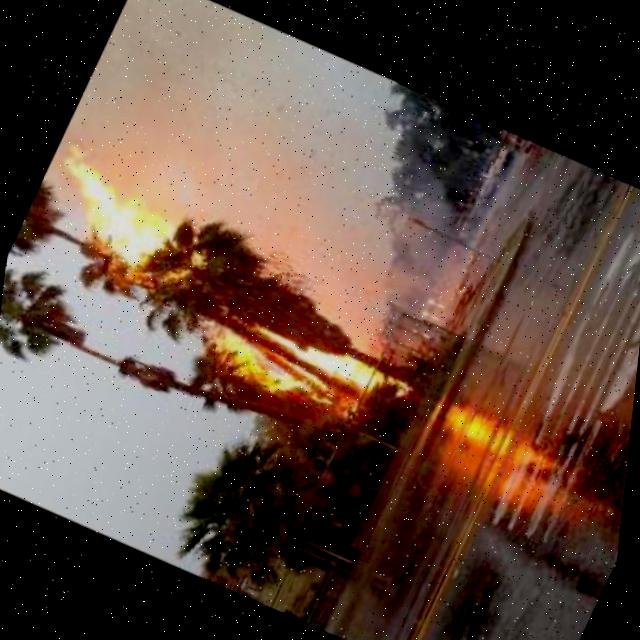fire: (0, 142, 453, 442)
